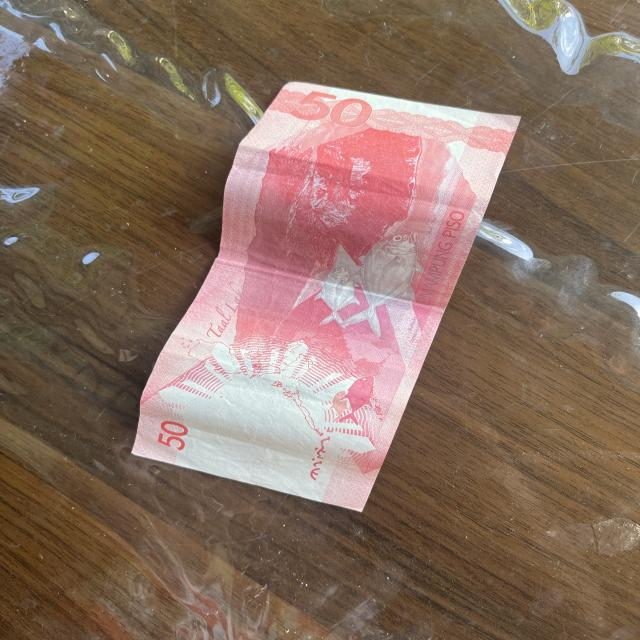50_maliputo: (304, 221, 433, 339)
50_maliputo_watermark: (315, 369, 383, 429)
value_watermark: (248, 456, 286, 479)
watermark: (192, 391, 310, 482)
